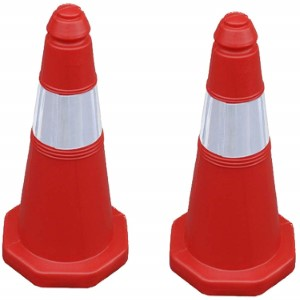traffic cone: (2, 2, 129, 288), (168, 10, 295, 296)
